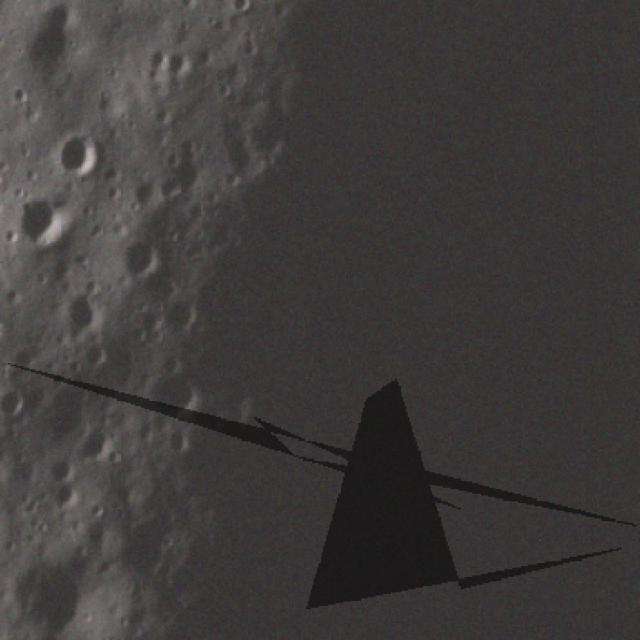crater: (9, 544, 101, 640), (15, 0, 91, 83), (9, 189, 69, 248), (147, 363, 205, 415), (53, 282, 107, 336), (115, 229, 174, 274), (53, 128, 105, 177), (160, 288, 202, 332), (77, 422, 115, 462), (0, 381, 32, 424), (149, 48, 194, 78), (49, 446, 80, 482), (52, 478, 88, 508), (222, 0, 254, 15)
